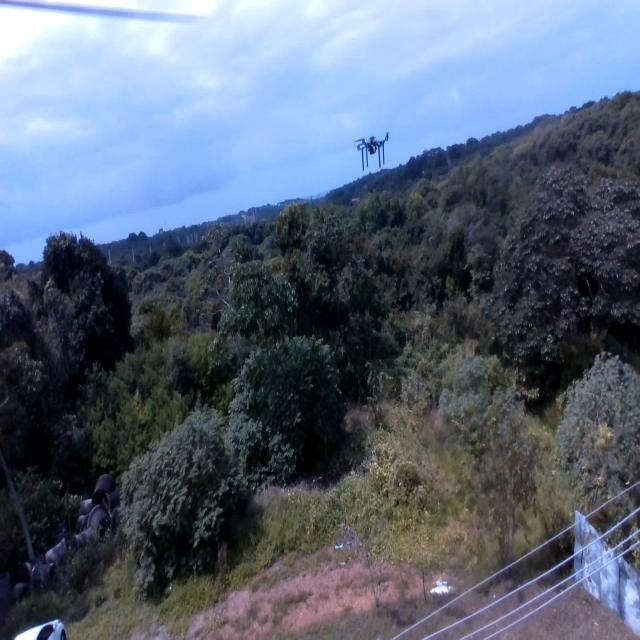-uav-: (351, 120, 393, 181)
